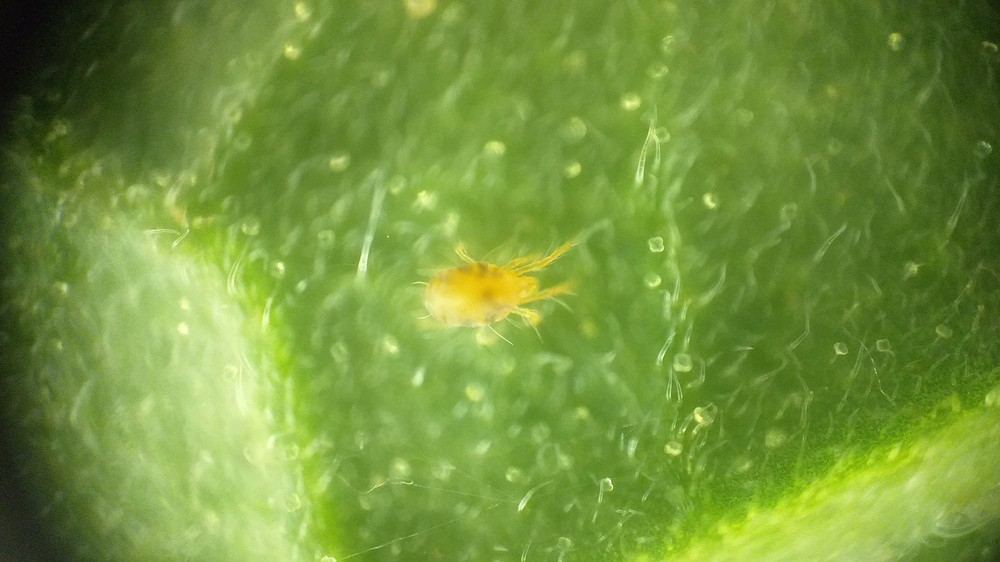Aracnido Rojo: (397, 217, 594, 344)
